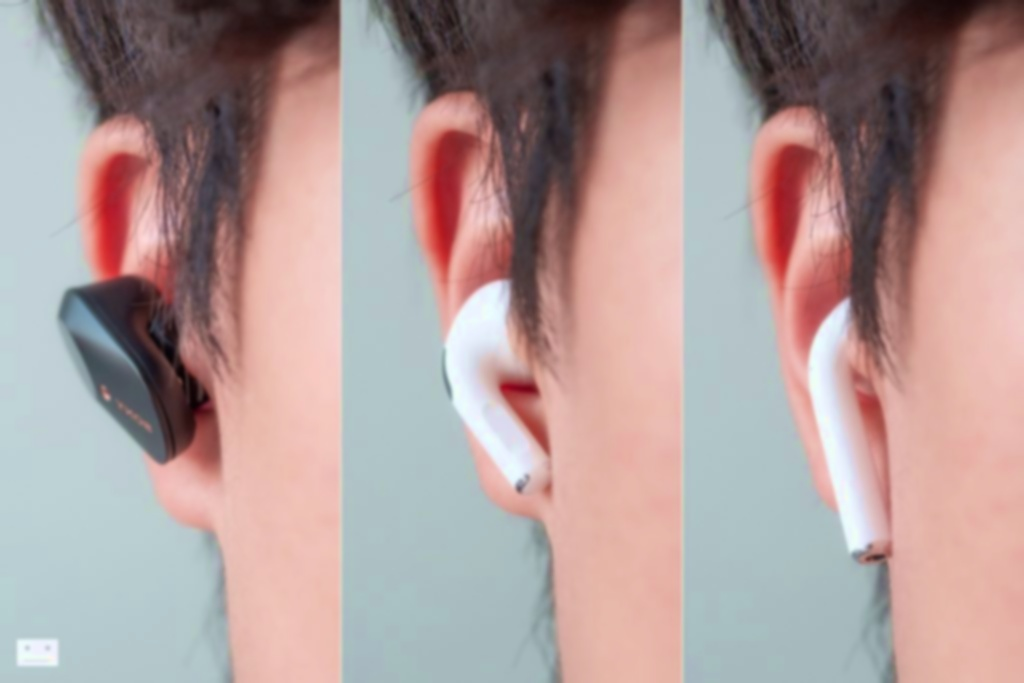earphone: (55, 111, 220, 528), (751, 105, 891, 560), (410, 91, 551, 520)
